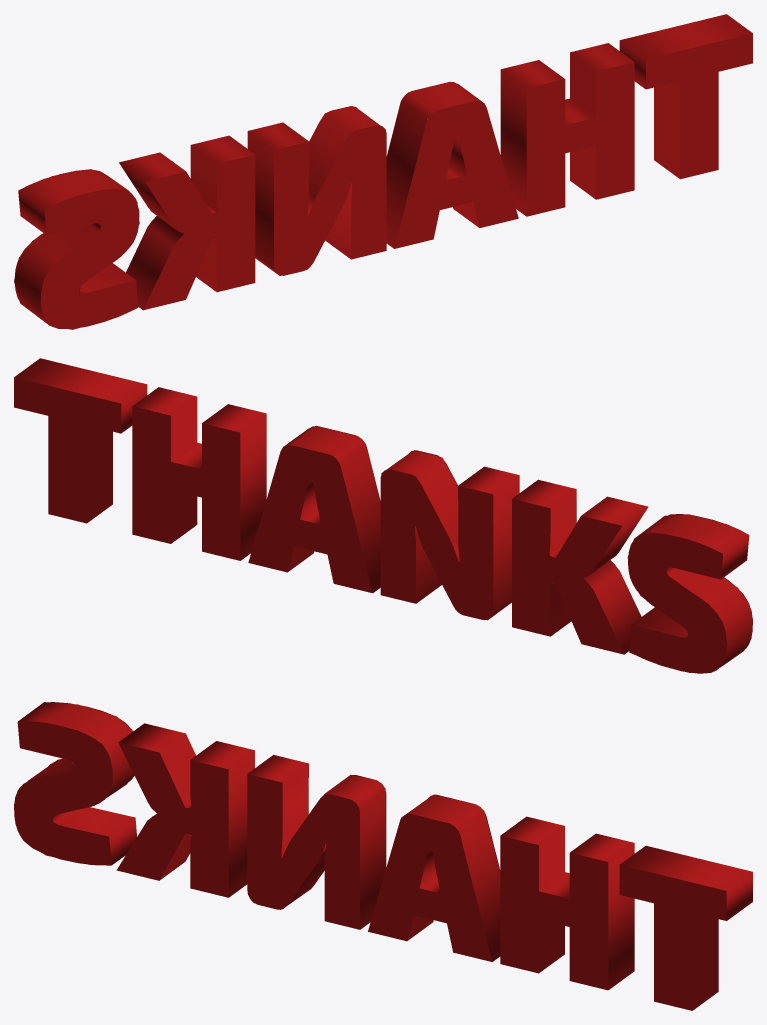
Rendered from thanks.fbx.
The picture shows the model from 3 angles, top to bottom: view 1: azimuth 30°, elevation 25°; view 2: azimuth 150°, elevation 25°; view 3: azimuth 330°, elevation 25°; orthographic projection.
Visible parts, largest first — view 1: Text; view 2: Text; view 3: Text.
Boxes of the visible parts, x1,y1,x2,y2 form: Text: (14, 14, 752, 329); Text: (14, 358, 752, 673); Text: (14, 702, 752, 1010).
Size of the model in its own units: 12.57 by 2.25 by 0.8.
